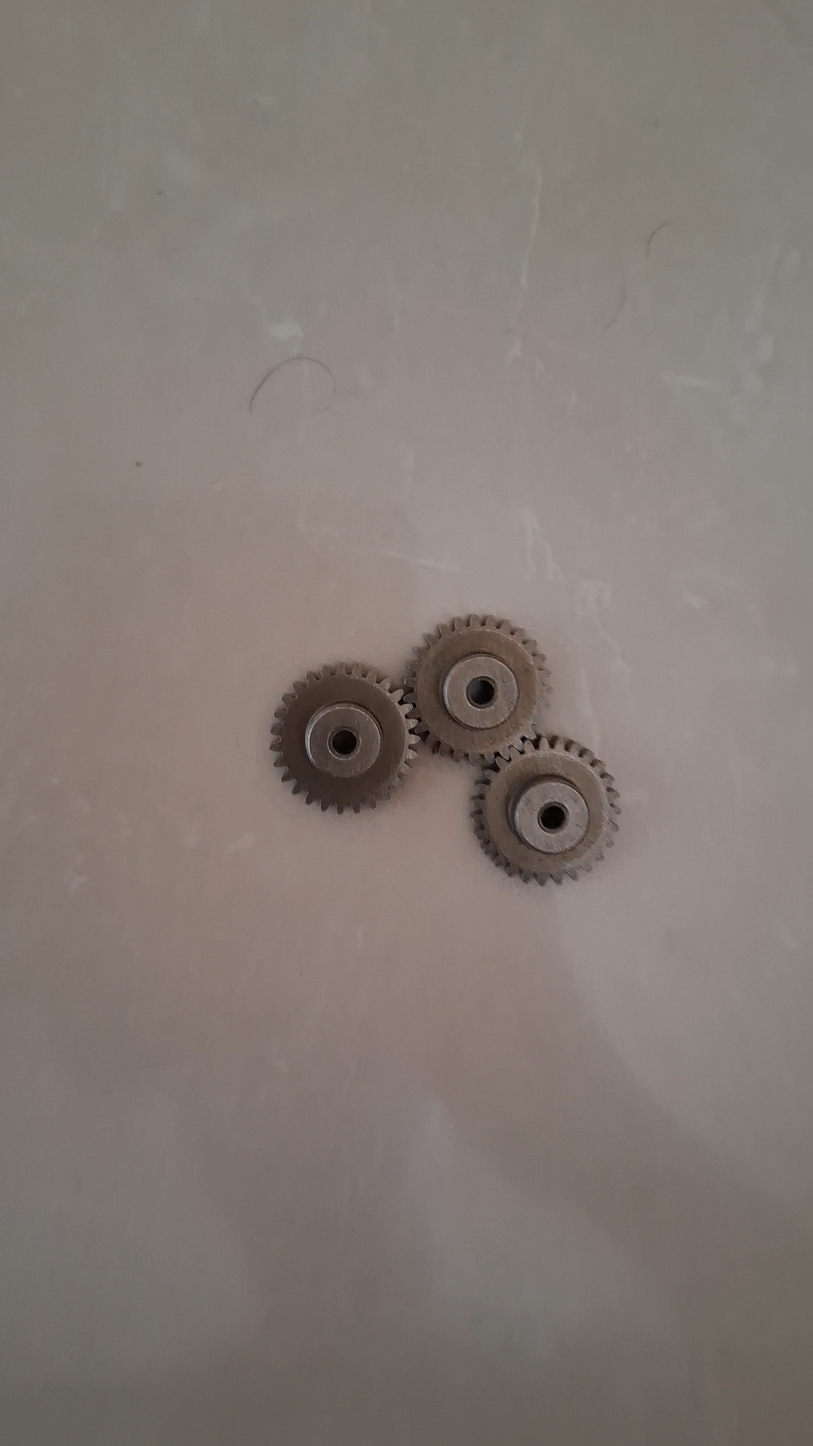spur gear: (271, 663, 417, 813), (472, 735, 619, 883), (405, 615, 547, 761)
